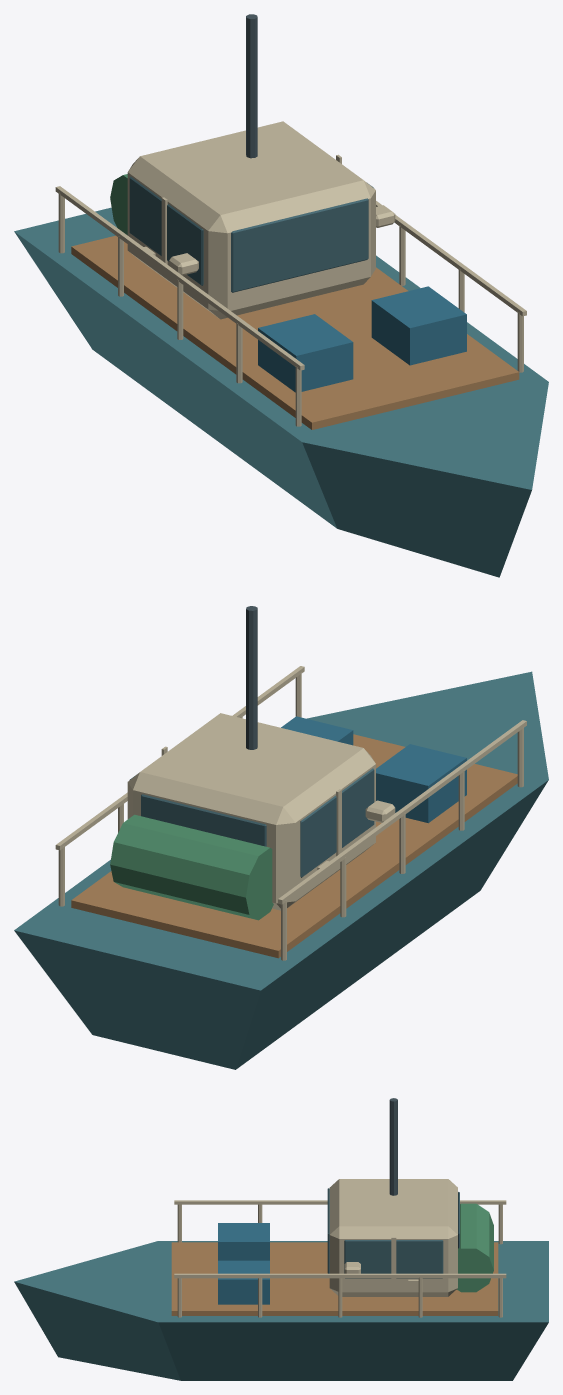
The model's file is vessel_fishing.glb.
3 views of the same model, one above another, from view 1: azimuth 30°, elevation 25°; view 2: azimuth 150°, elevation 25°; view 3: azimuth 270°, elevation 25° (orthographic). The views are drawn at different scales.
Parts seen in each view (by area): view 1: vessel_fishing; view 2: vessel_fishing; view 3: vessel_fishing.
Part boxes in pixels (bbox=[...]): vessel_fishing: bbox=[14, 14, 548, 577]; vessel_fishing: bbox=[14, 606, 548, 1069]; vessel_fishing: bbox=[14, 1098, 548, 1380].
Size of the model in its own units: 2.6 by 3.82 by 7.2.
